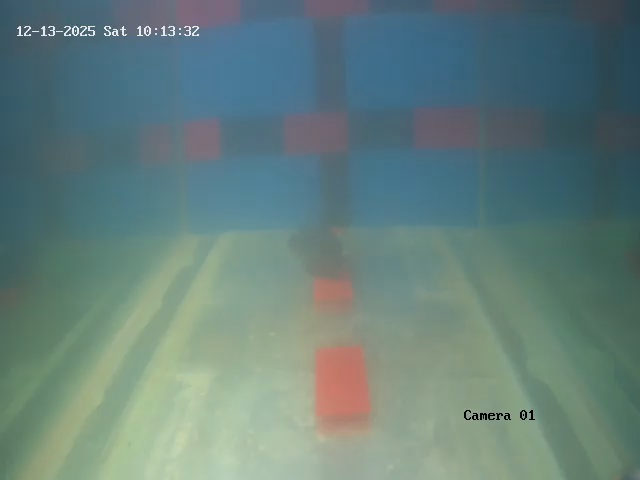fish: (282, 224, 365, 273)
